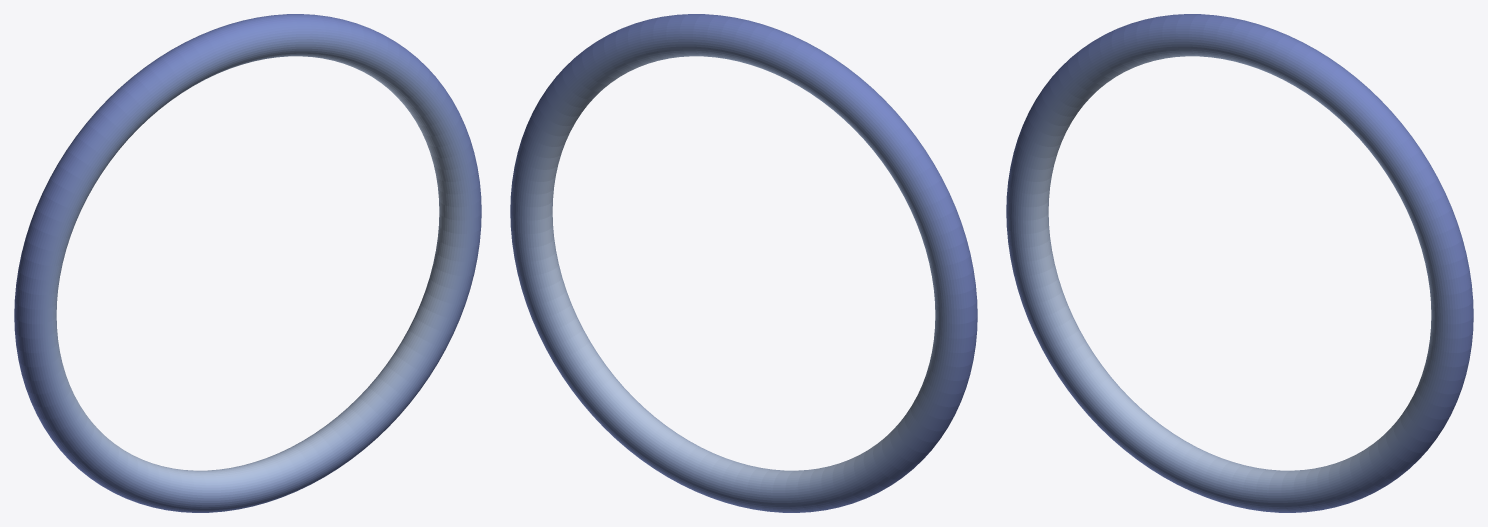
The picture shows the model from 3 angles, left to right: view 1: azimuth 30°, elevation 25°; view 2: azimuth 150°, elevation 25°; view 3: azimuth 330°, elevation 25°; orthographic projection.
Visible parts, largest first — view 1: world; view 2: world; view 3: world.
Part boxes in pixels (bbox=[...]): world: bbox=[14, 14, 481, 512]; world: bbox=[510, 14, 977, 512]; world: bbox=[1006, 14, 1473, 512].
Size of the model in its own units: 31.87 by 31.87 by 2.53.
